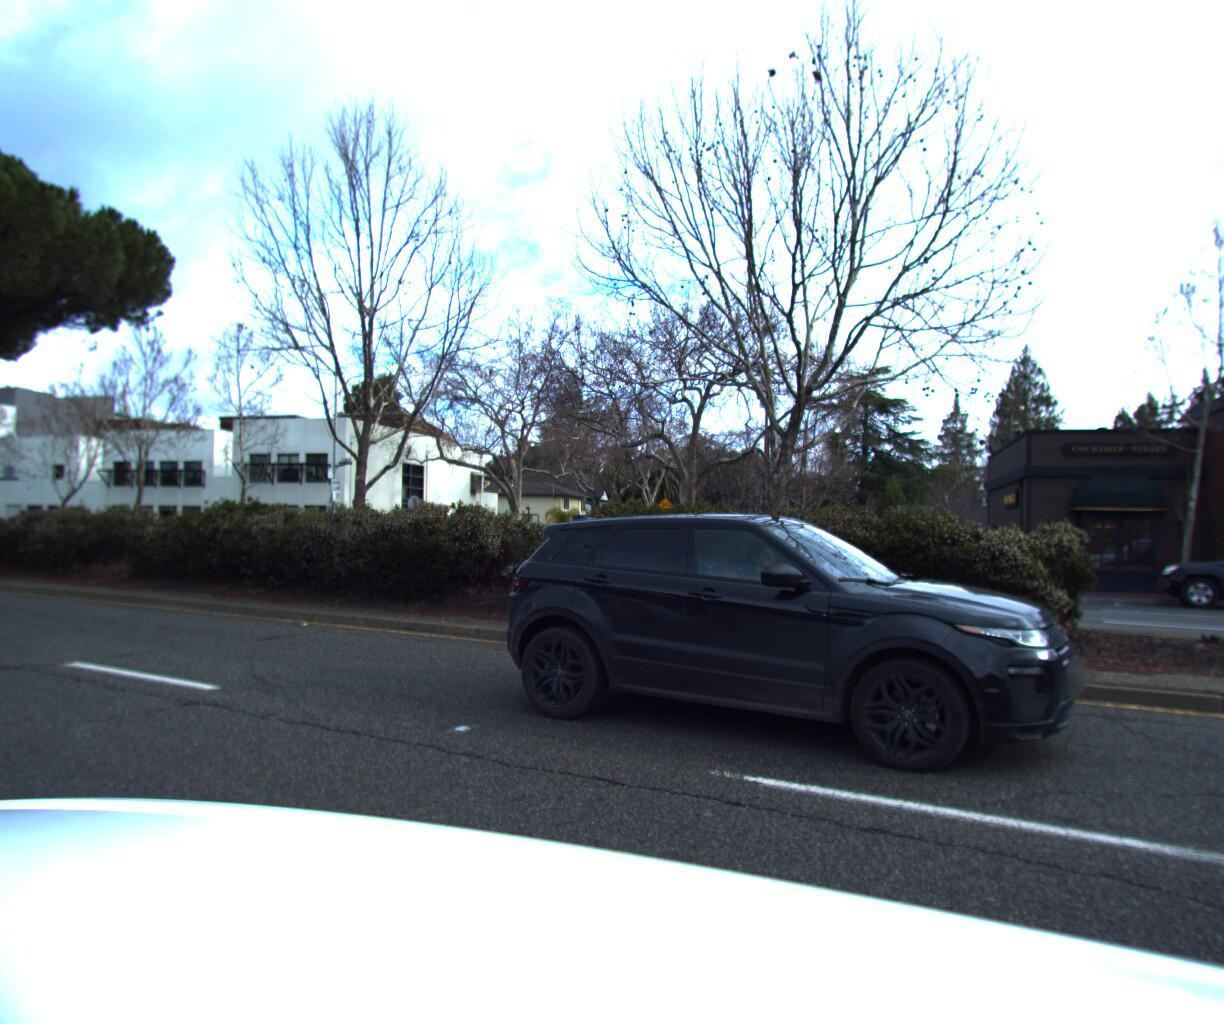car: (466, 513, 1091, 802), (1151, 541, 1224, 630), (546, 524, 602, 543)
